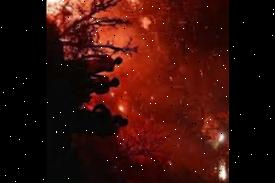fire: (46, 0, 86, 23)
